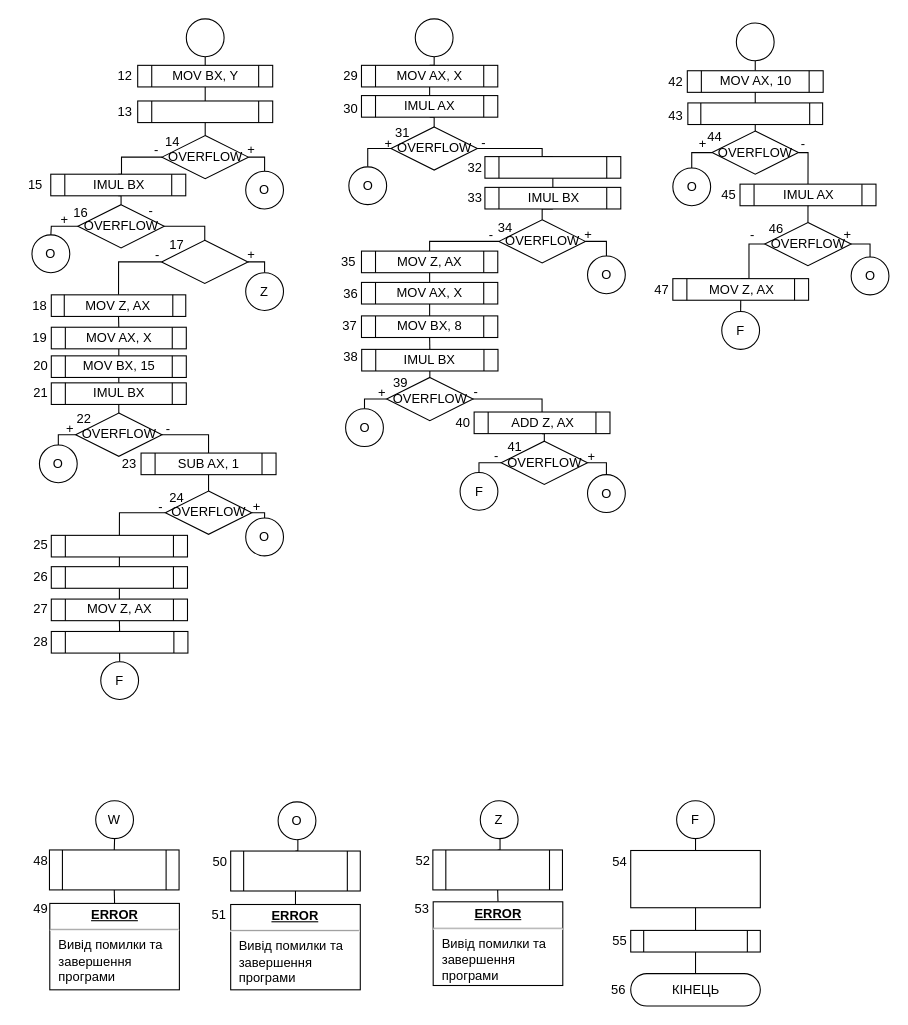
Image size: 908x1025. Some labels were removed from this diagram. The shapes that lost their labels are listed below. From the top down, each one's box as (x1, y1, x2, y2) in pixels, then its label:
(185, 18, 224, 57): F1
(414, 18, 453, 57): F2
(735, 22, 774, 61): F3
(137, 100, 273, 123): SUB AX, BX
(687, 102, 823, 125): SUB AX, X
(484, 156, 621, 178): MOV BX, 35
(160, 239, 248, 284): AX == 0
(50, 534, 187, 557): XOR DX, DX
(50, 566, 187, 588): IDIV Z
(50, 630, 188, 653): MOV Z_SUB, DX
(48, 849, 179, 890): LEA DX, MSG_WRONG_DATA
(230, 850, 360, 891): LEA DX, MSG_OVERFLOW
(432, 849, 562, 890): LEA DX, MSG_DIV_ZERO
(630, 849, 760, 908): OUTPUT Вивід результату
(630, 929, 760, 952): RET
